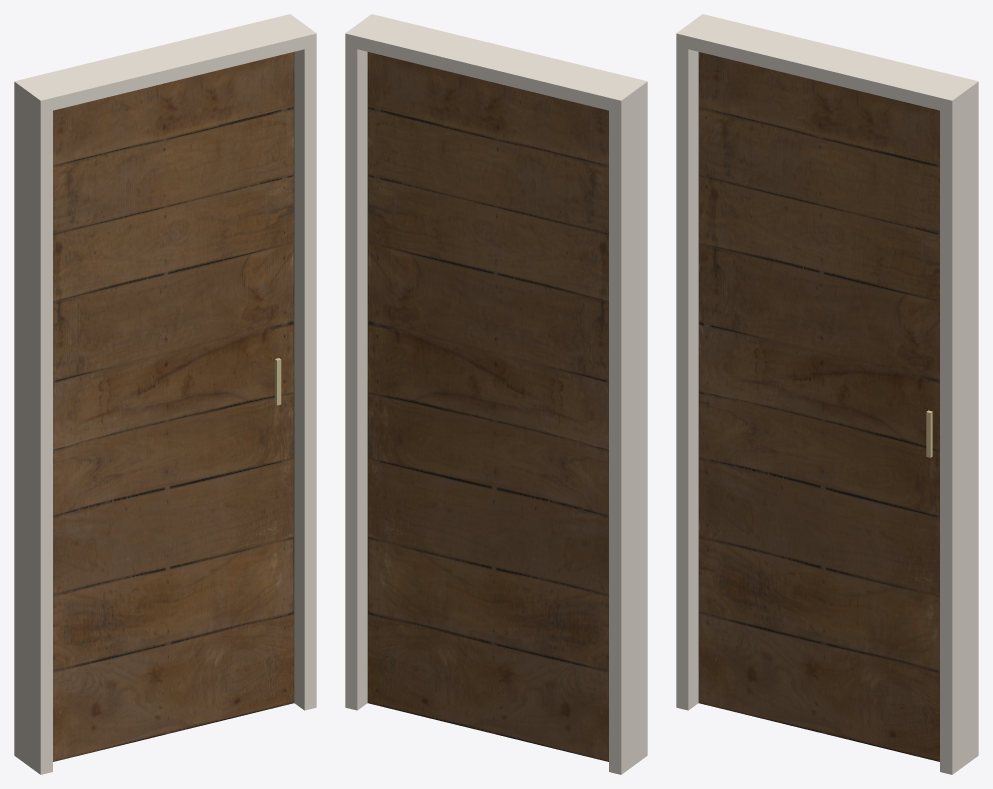
Rendered from porta_servico_90.glb.
The picture shows the model from 3 angles, left to right: view 1: azimuth 30°, elevation 25°; view 2: azimuth 150°, elevation 25°; view 3: azimuth 330°, elevation 25°; orthographic projection.
Parts seen in each view (by area): view 1: porta_servico_90; view 2: porta_servico_90; view 3: porta_servico_90.
Boxes of the visible parts, left/top/right/bottom form: porta_servico_90: left=14, top=14, right=316, bottom=774; porta_servico_90: left=345, top=14, right=647, bottom=774; porta_servico_90: left=676, top=14, right=978, bottom=774.
Bounding box in the file's own units: 0.9 × 2.1 × 0.15.
3 materials, 1 textured.
